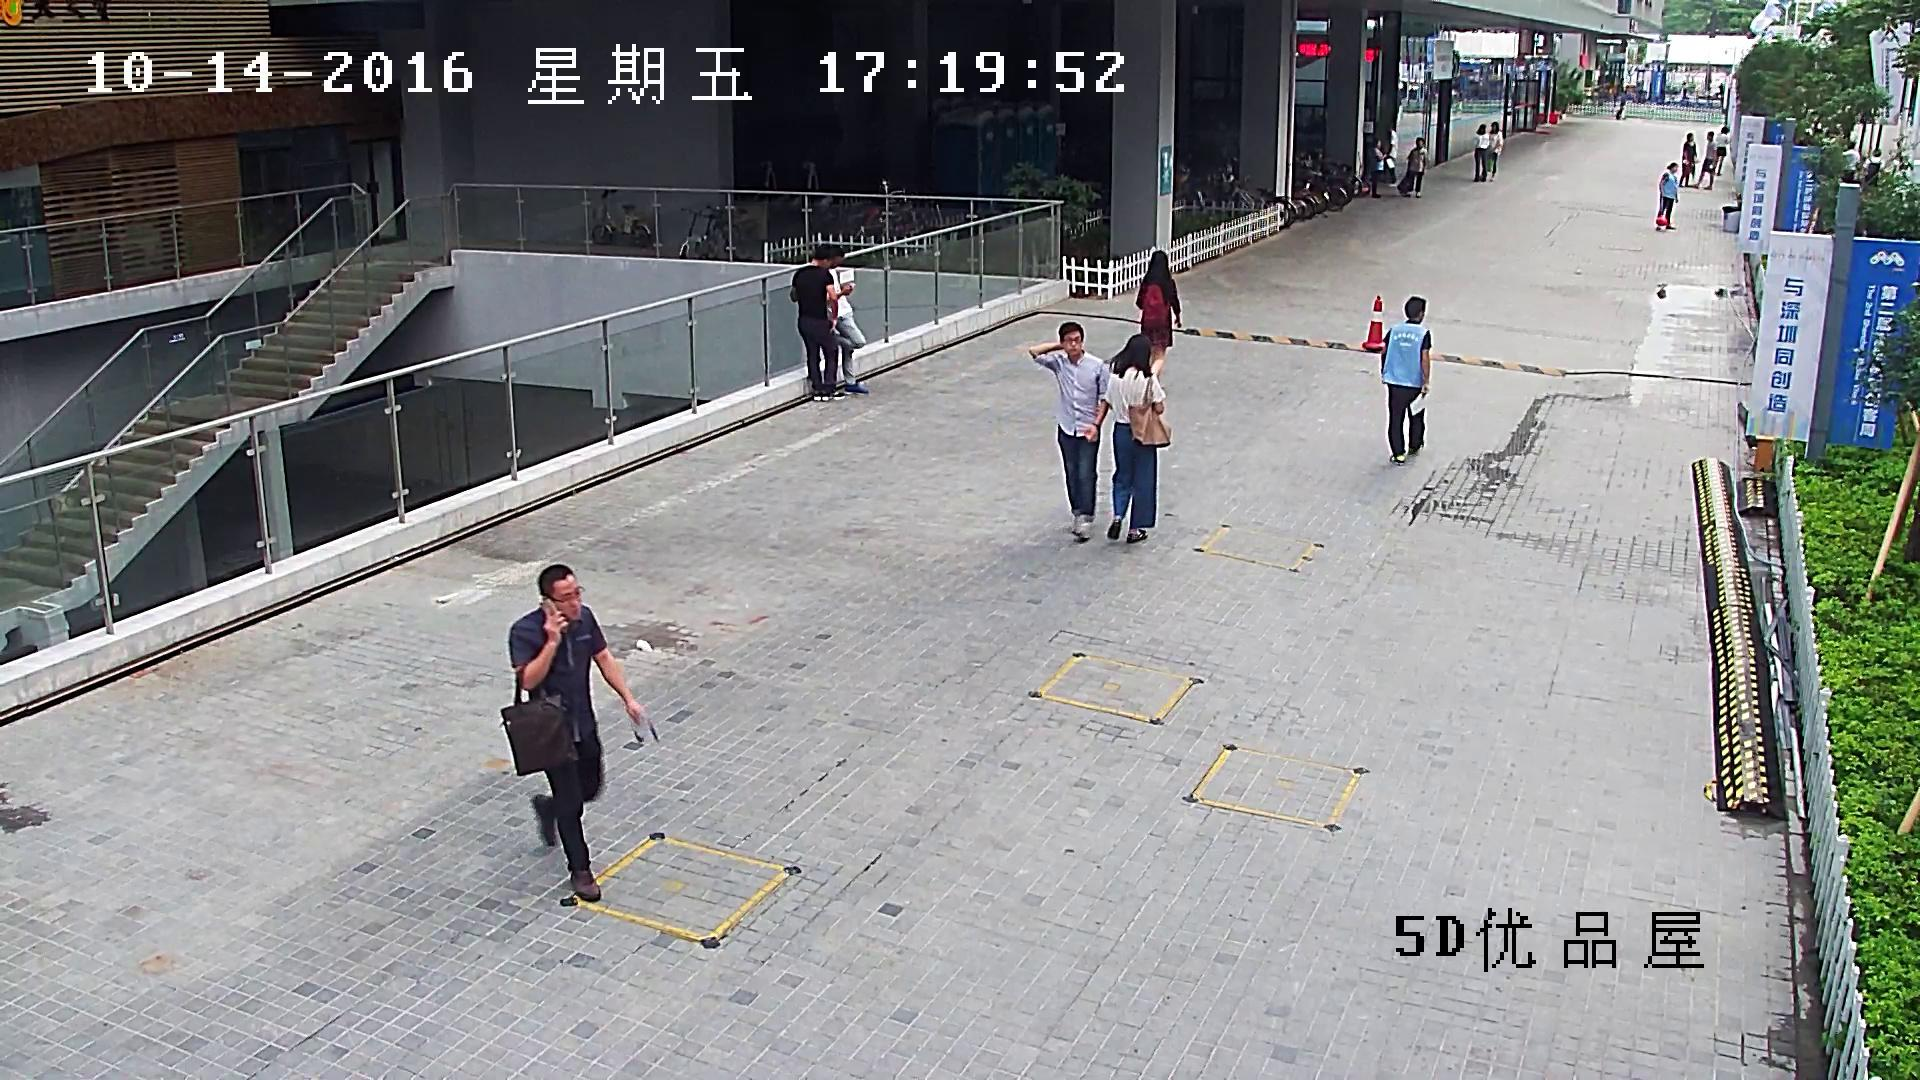person: (500, 563, 643, 901), (1028, 322, 1109, 538), (1089, 334, 1171, 543), (790, 244, 846, 401), (1381, 296, 1432, 466), (826, 247, 868, 394), (1135, 251, 1181, 379), (1397, 137, 1427, 199), (1656, 162, 1678, 231), (1695, 132, 1716, 190), (1678, 133, 1699, 188), (1408, 137, 1427, 198), (1472, 124, 1489, 181), (1371, 138, 1387, 199), (1488, 121, 1502, 181), (1841, 141, 1861, 182), (1863, 149, 1884, 184), (1716, 127, 1727, 175)
